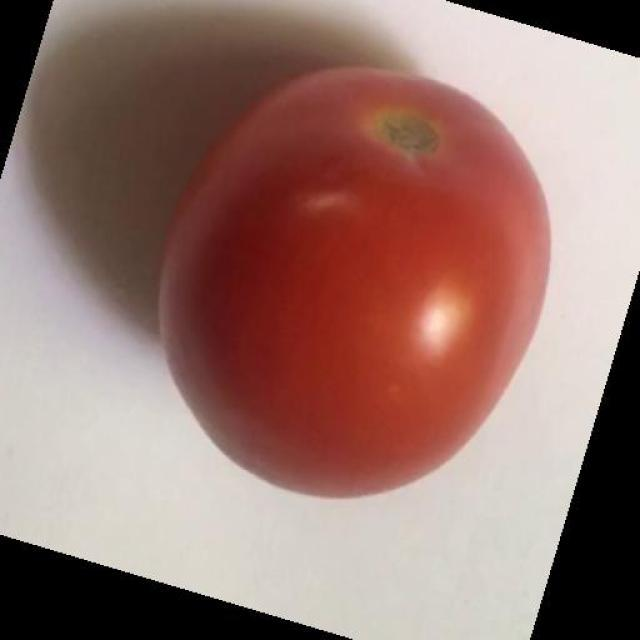Fresh Tomato: (142, 40, 564, 519)
